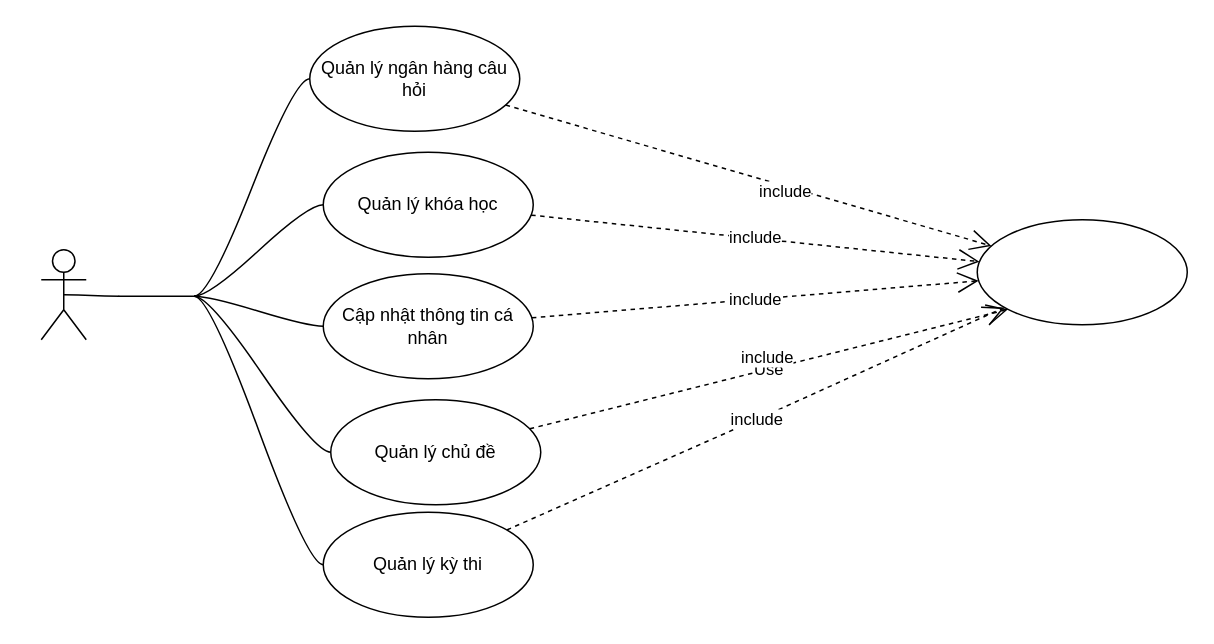
This 1214x644 diagram has some shape labels left out. Here are the shapes that lost their labels. From the top down, the box of each, then its label:
(976, 218, 1187, 325): Đăng nhập
(40, 248, 86, 340): Giáo viên
